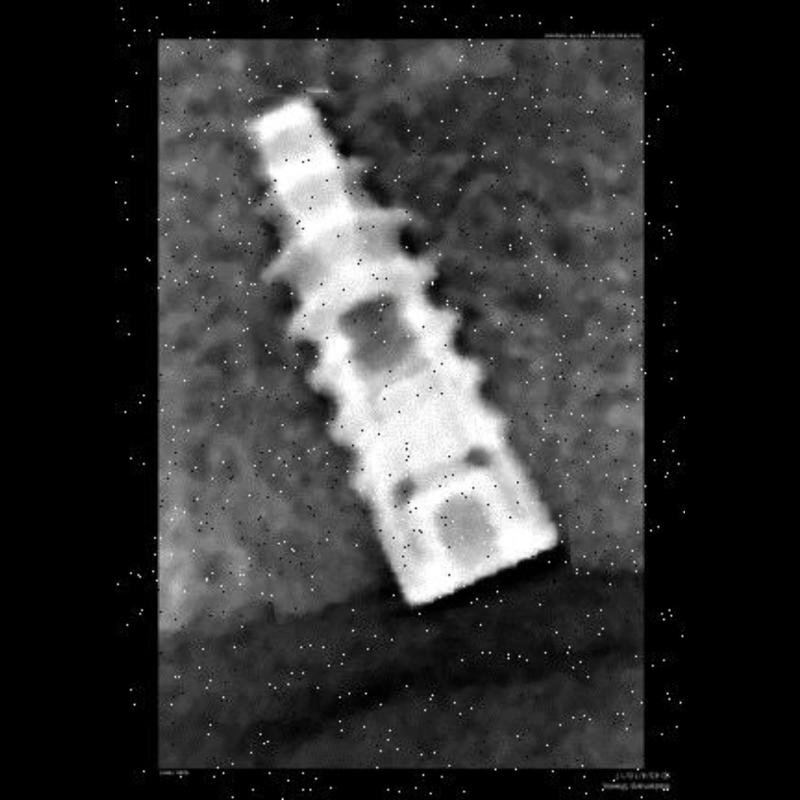NORIS: (240, 80, 562, 616)
